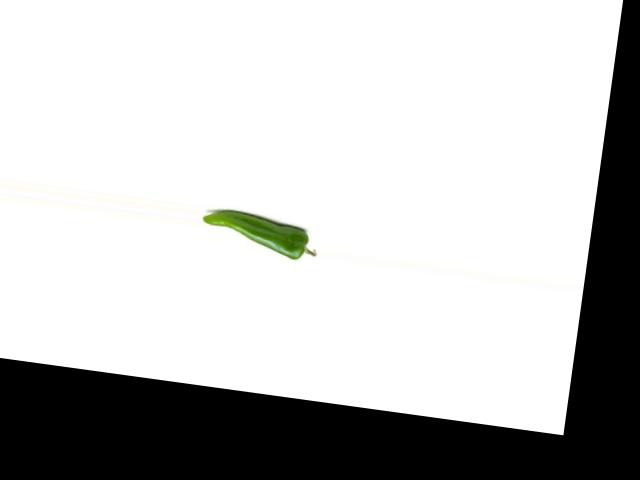bell_pepper: (198, 204, 325, 265)
